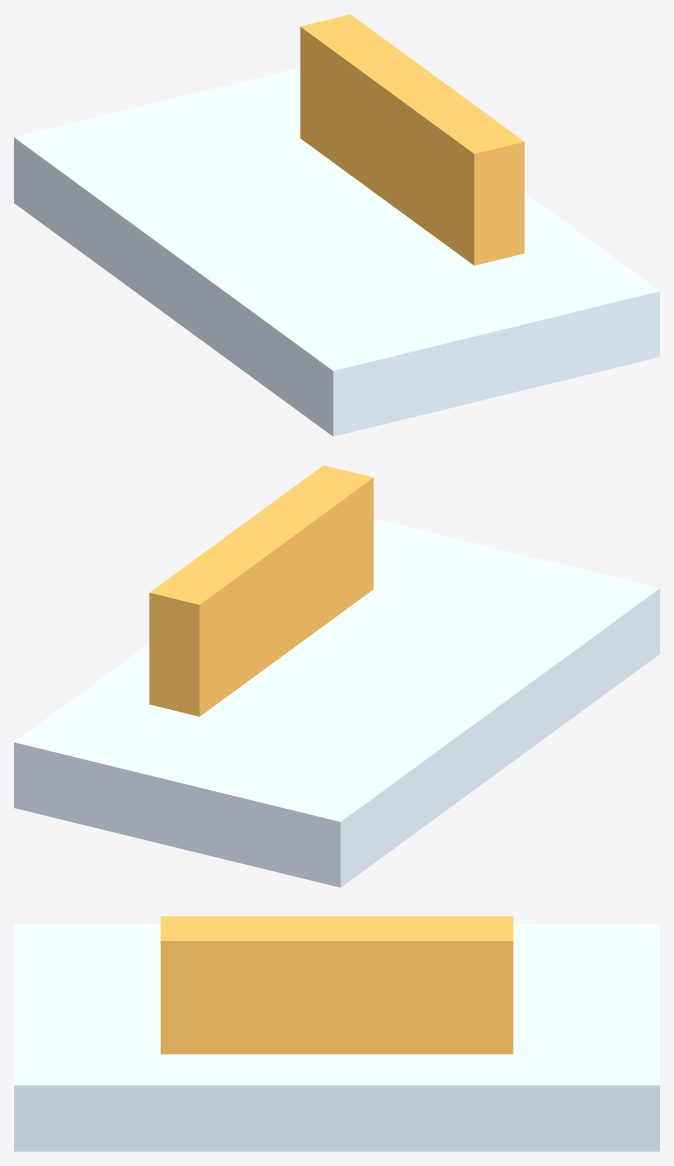
The model's file is debris.glb.
3 views of the same model, one above another, from view 1: azimuth 30°, elevation 25°; view 2: azimuth 150°, elevation 25°; view 3: azimuth 270°, elevation 25° (orthographic).
Parts seen in each view (by area): view 1: Unknown debris fragment, Fragment rib; view 2: Unknown debris fragment, Fragment rib; view 3: Unknown debris fragment, Fragment rib.
Boxes of the visible parts, x1,y1,x2,y2 form: Unknown debris fragment: [14, 67, 659, 436]; Fragment rib: [300, 14, 524, 265]; Unknown debris fragment: [14, 518, 659, 887]; Fragment rib: [149, 465, 373, 716]; Unknown debris fragment: [14, 924, 659, 1151]; Fragment rib: [160, 916, 513, 1054].
Size of the model in its own units: 1.3 by 0.675 by 2.2.
